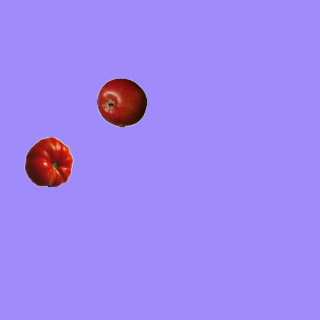Apple Braeburn: (96, 77, 146, 127)
Tomato 3: (23, 136, 73, 186)
